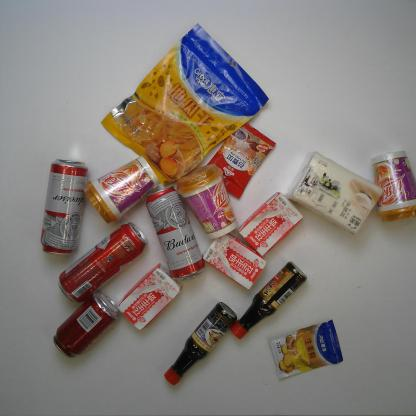Alcohol: (58, 221, 149, 304), (145, 185, 206, 282), (38, 158, 90, 257)
Dried Fruit: (100, 21, 270, 188)
Drink: (52, 290, 121, 360)
Instant Drink: (206, 119, 277, 202), (82, 155, 161, 225), (176, 162, 238, 240), (370, 150, 416, 224)
Milk: (117, 262, 183, 331), (237, 191, 304, 258), (202, 233, 268, 290)
Seasoner: (163, 301, 238, 386), (230, 261, 307, 341), (267, 319, 344, 381)
Tissue: (284, 150, 384, 236)
